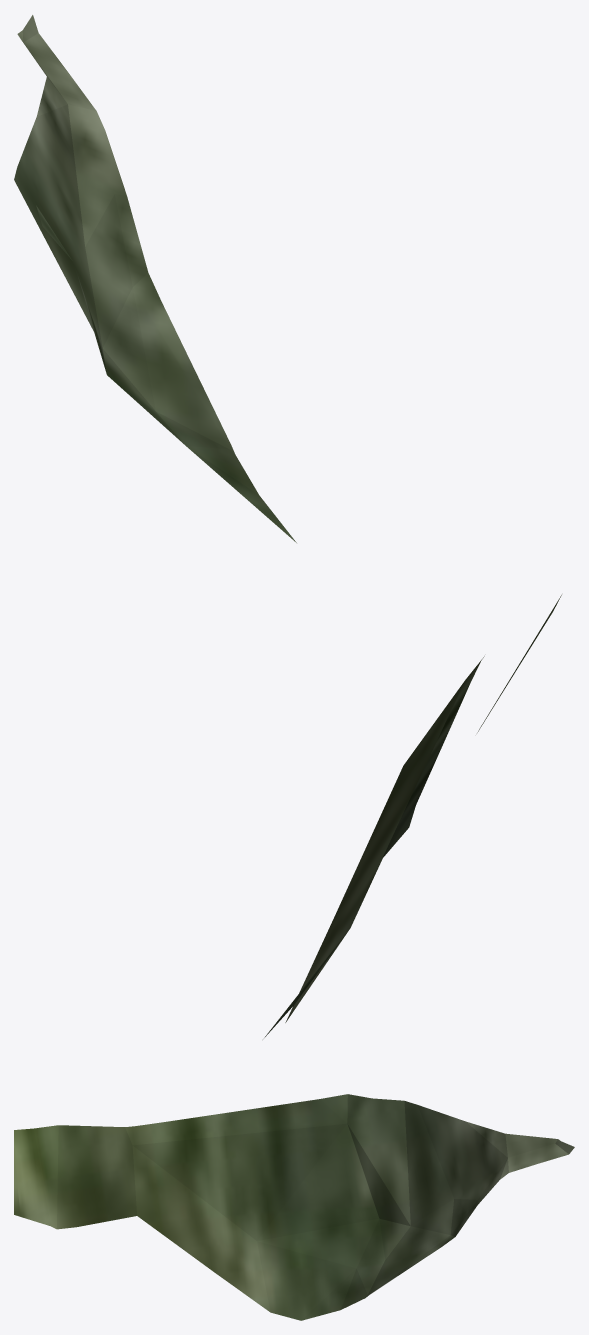
3 views of the same model, one above another, from view 1: azimuth 30°, elevation 25°; view 2: azimuth 150°, elevation 25°; view 3: azimuth 270°, elevation 25° (orthographic). The views are drawn at different scales.
Size of the model in its own units: 0.3909 by 0.5973 by 1.75.
1 material, 1 textured.
